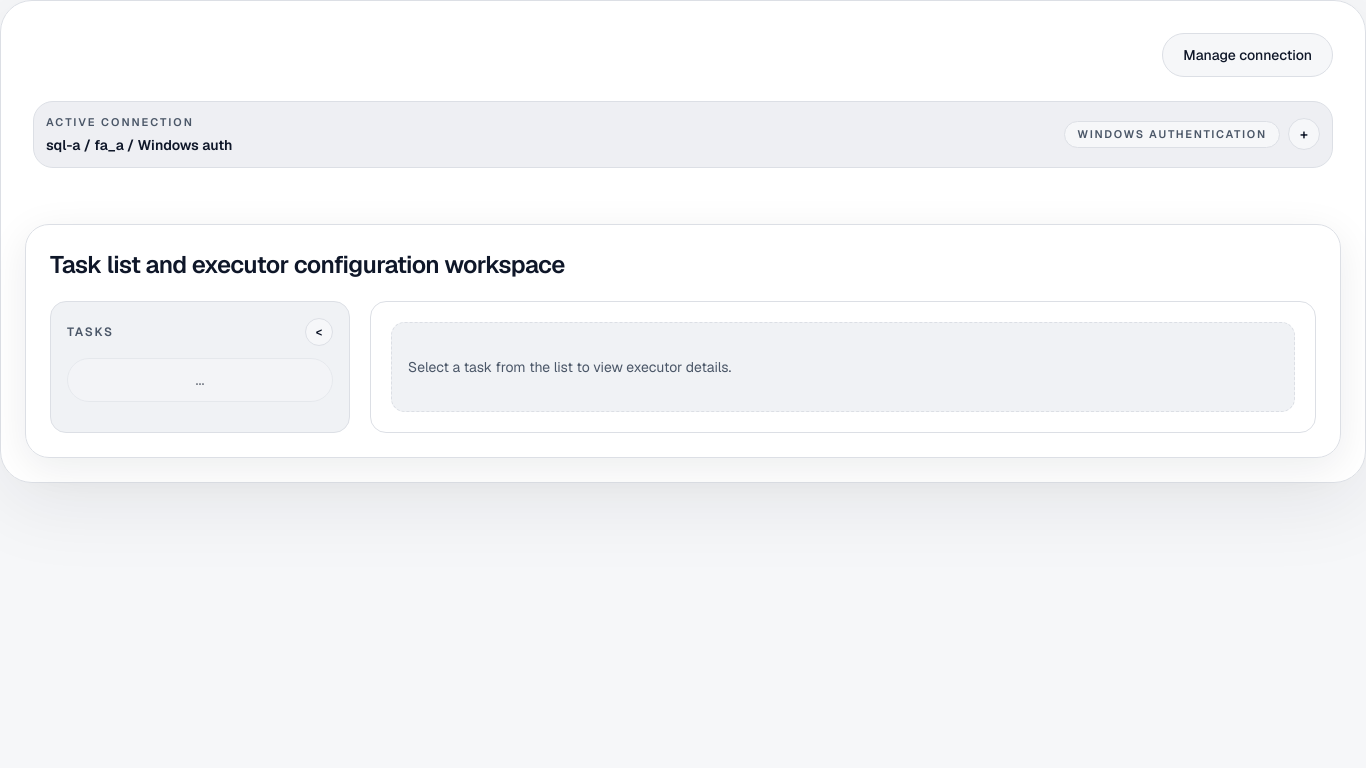
Test: connection-workspace › toggles active connection detail expansion
Expected: the text "Trusted_Connection" is not shown
Click the button named "Expand active connection details": (1304,134) [1288, 118, 1320, 150]
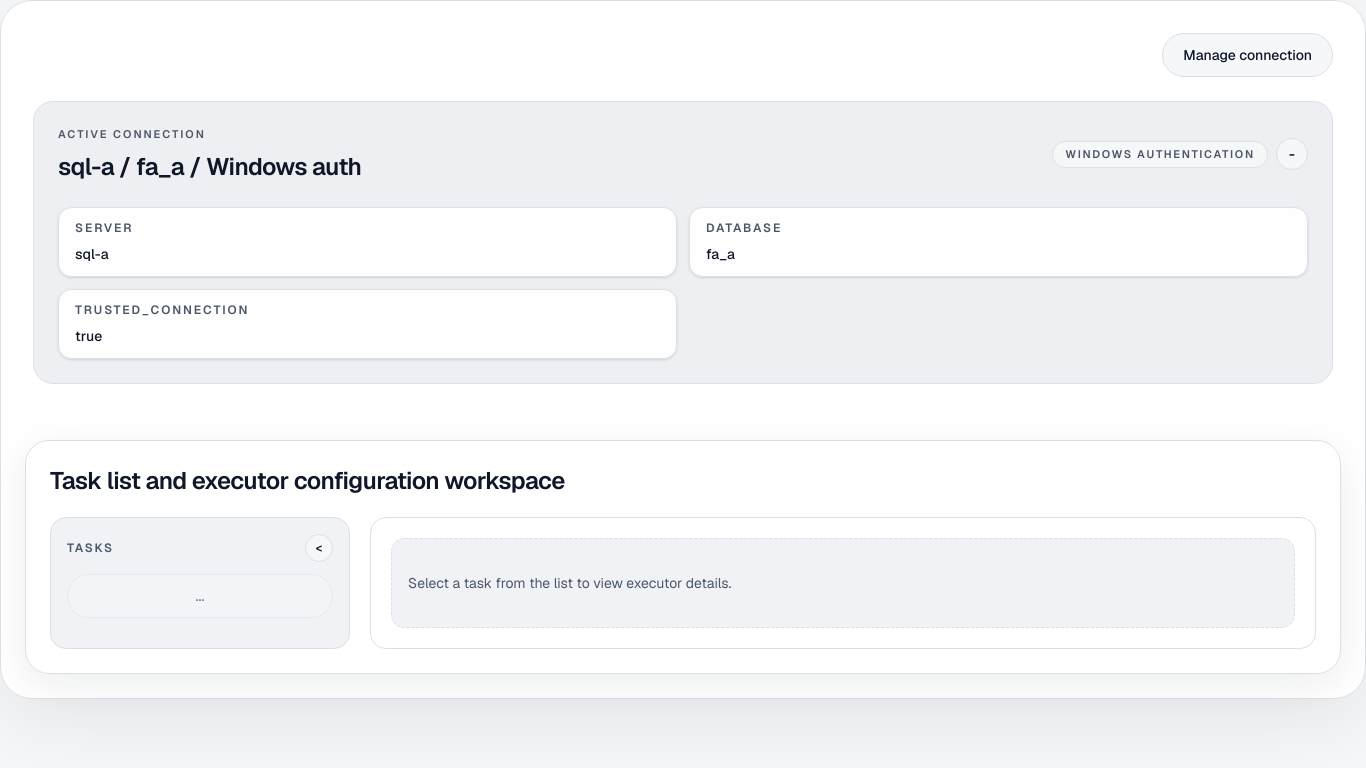
Expected: the text "Server" is shown, [75, 220, 133, 236]
Expected: the text "Database" is shown, [706, 220, 782, 236]
Expected: the text "Trusted_Connection" is shown, [75, 302, 250, 318]
Click the button named "Collapse active connection details": (1292,154) [1276, 138, 1308, 170]
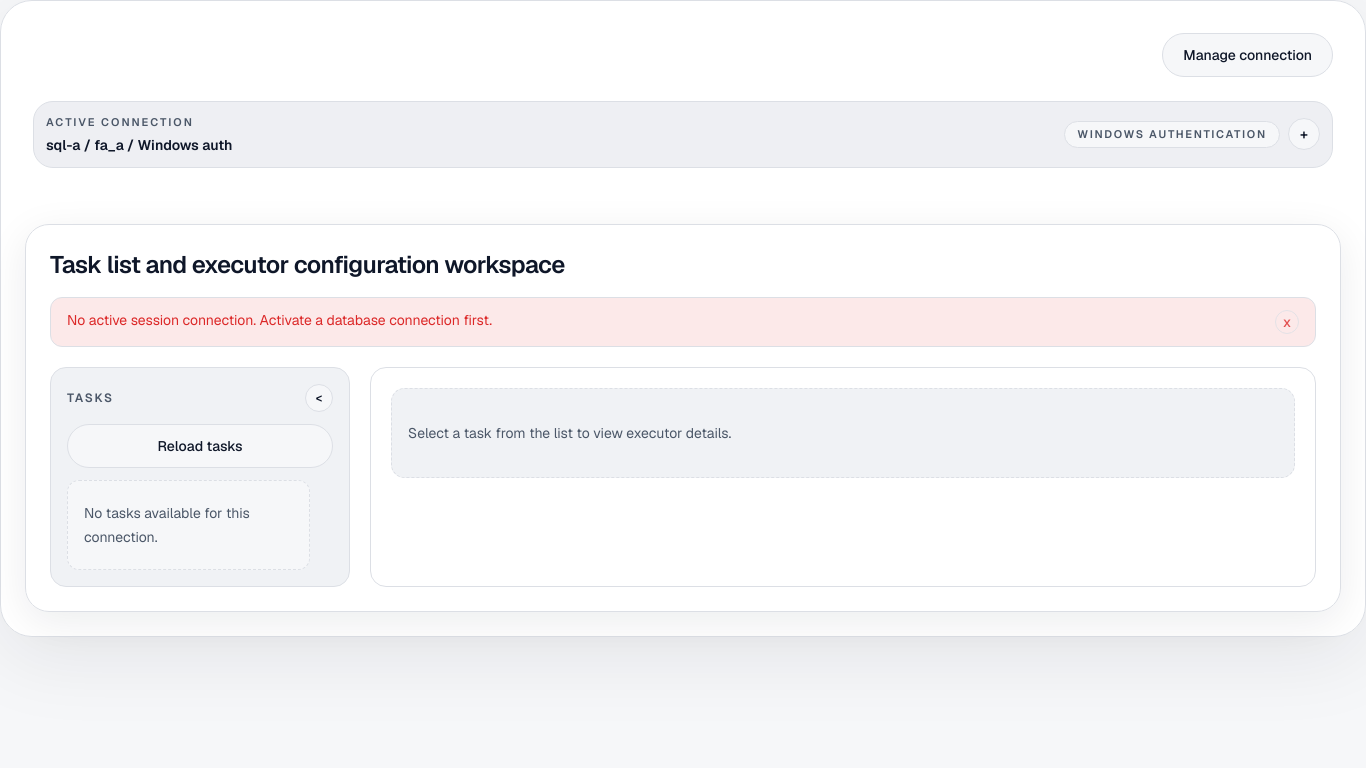
Expected: the text "Trusted_Connection" is gone
